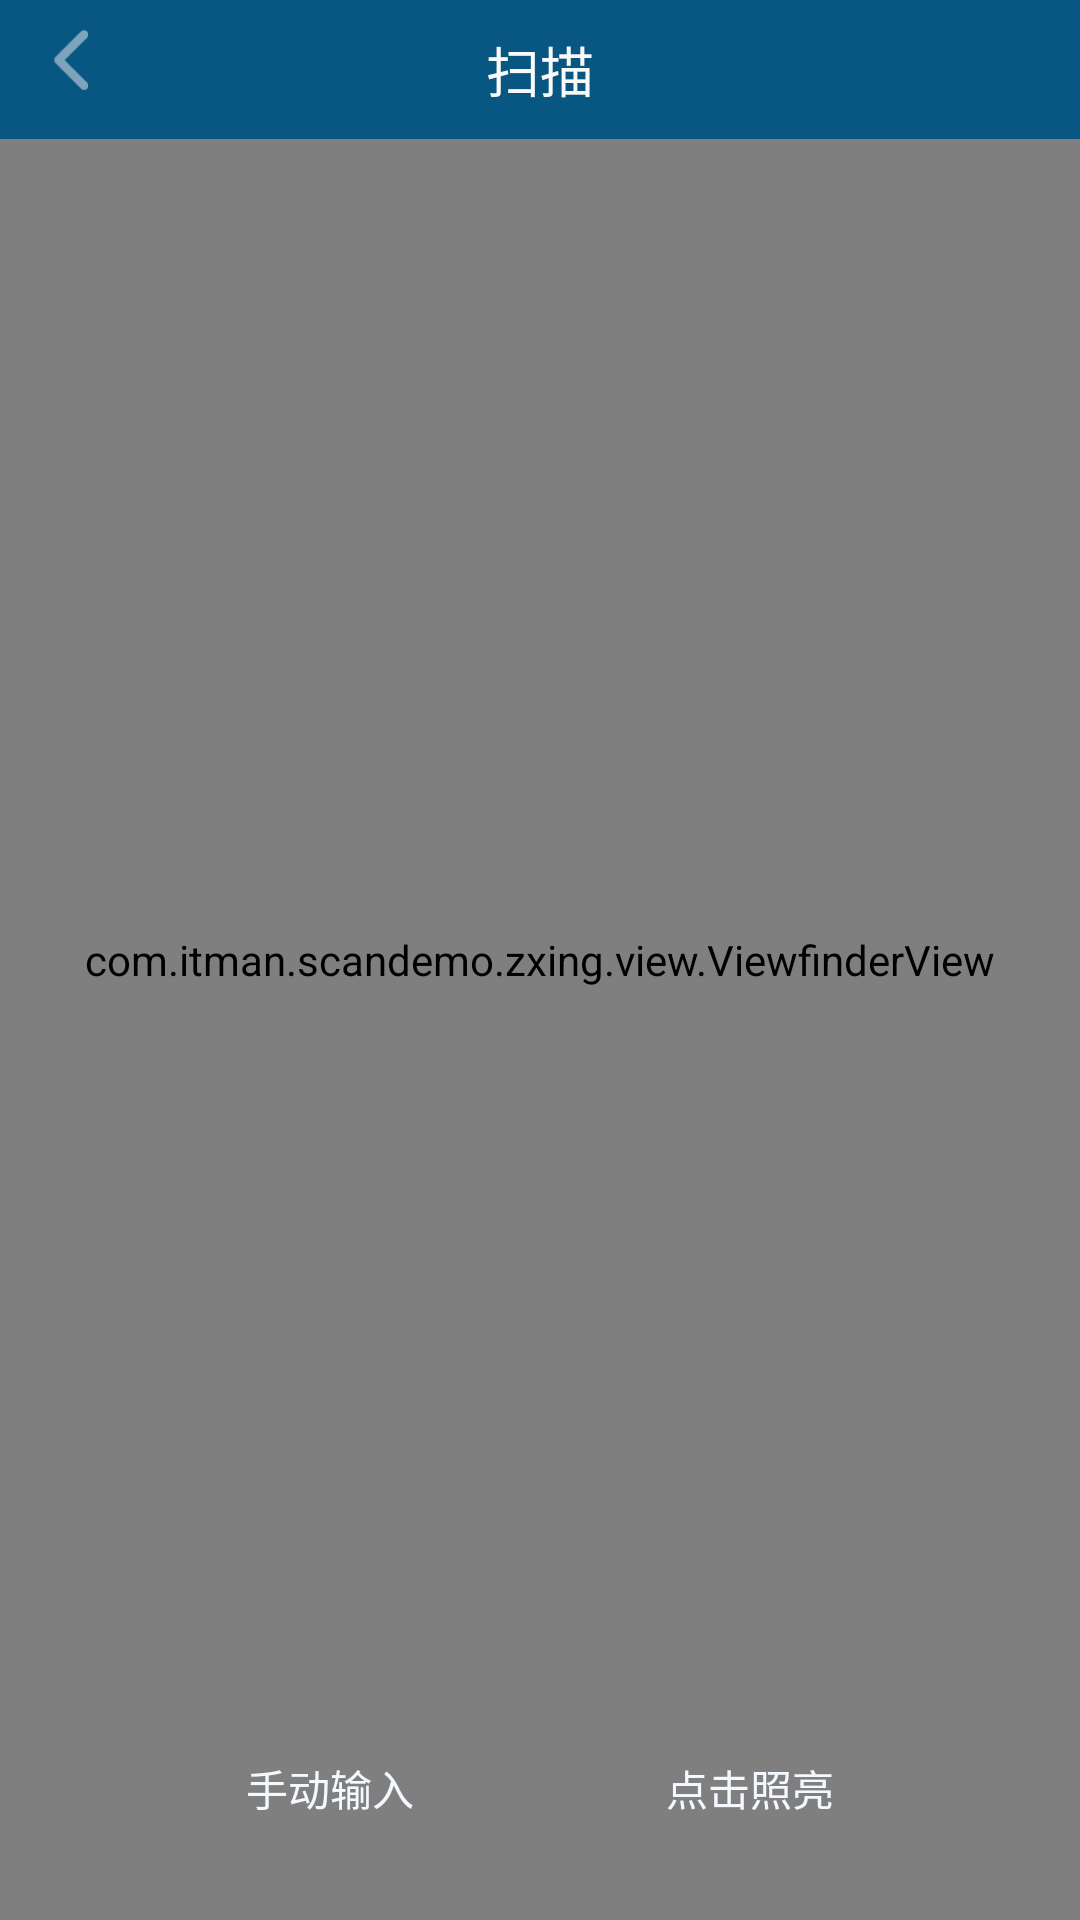

Where icons sit on this 1080px×1920px app screen, as bbox=[x1, y1, x2, y2]:
back: bbox=[54, 30, 88, 90]
